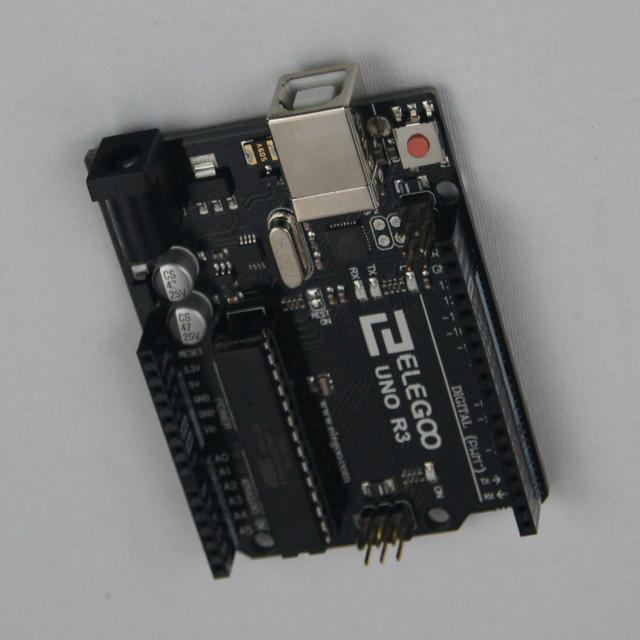Arduino Uno -Black-: (86, 64, 548, 578)
